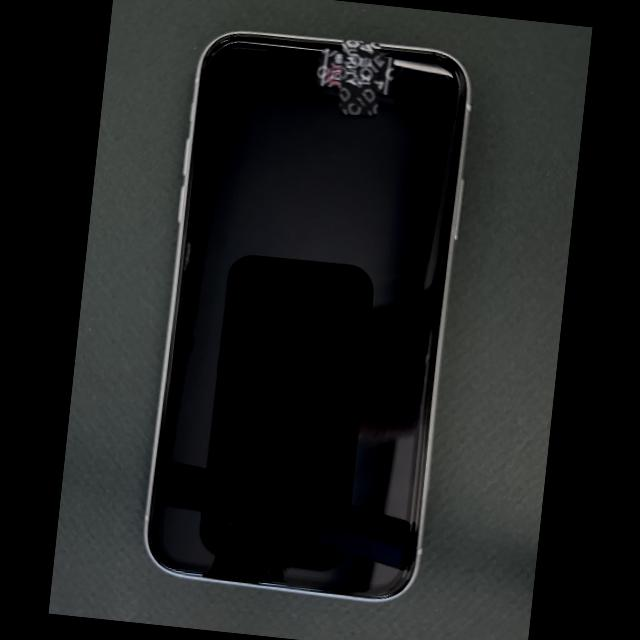phone: (143, 30, 471, 603)
sticker: (338, 39, 380, 117), (315, 49, 342, 88)
